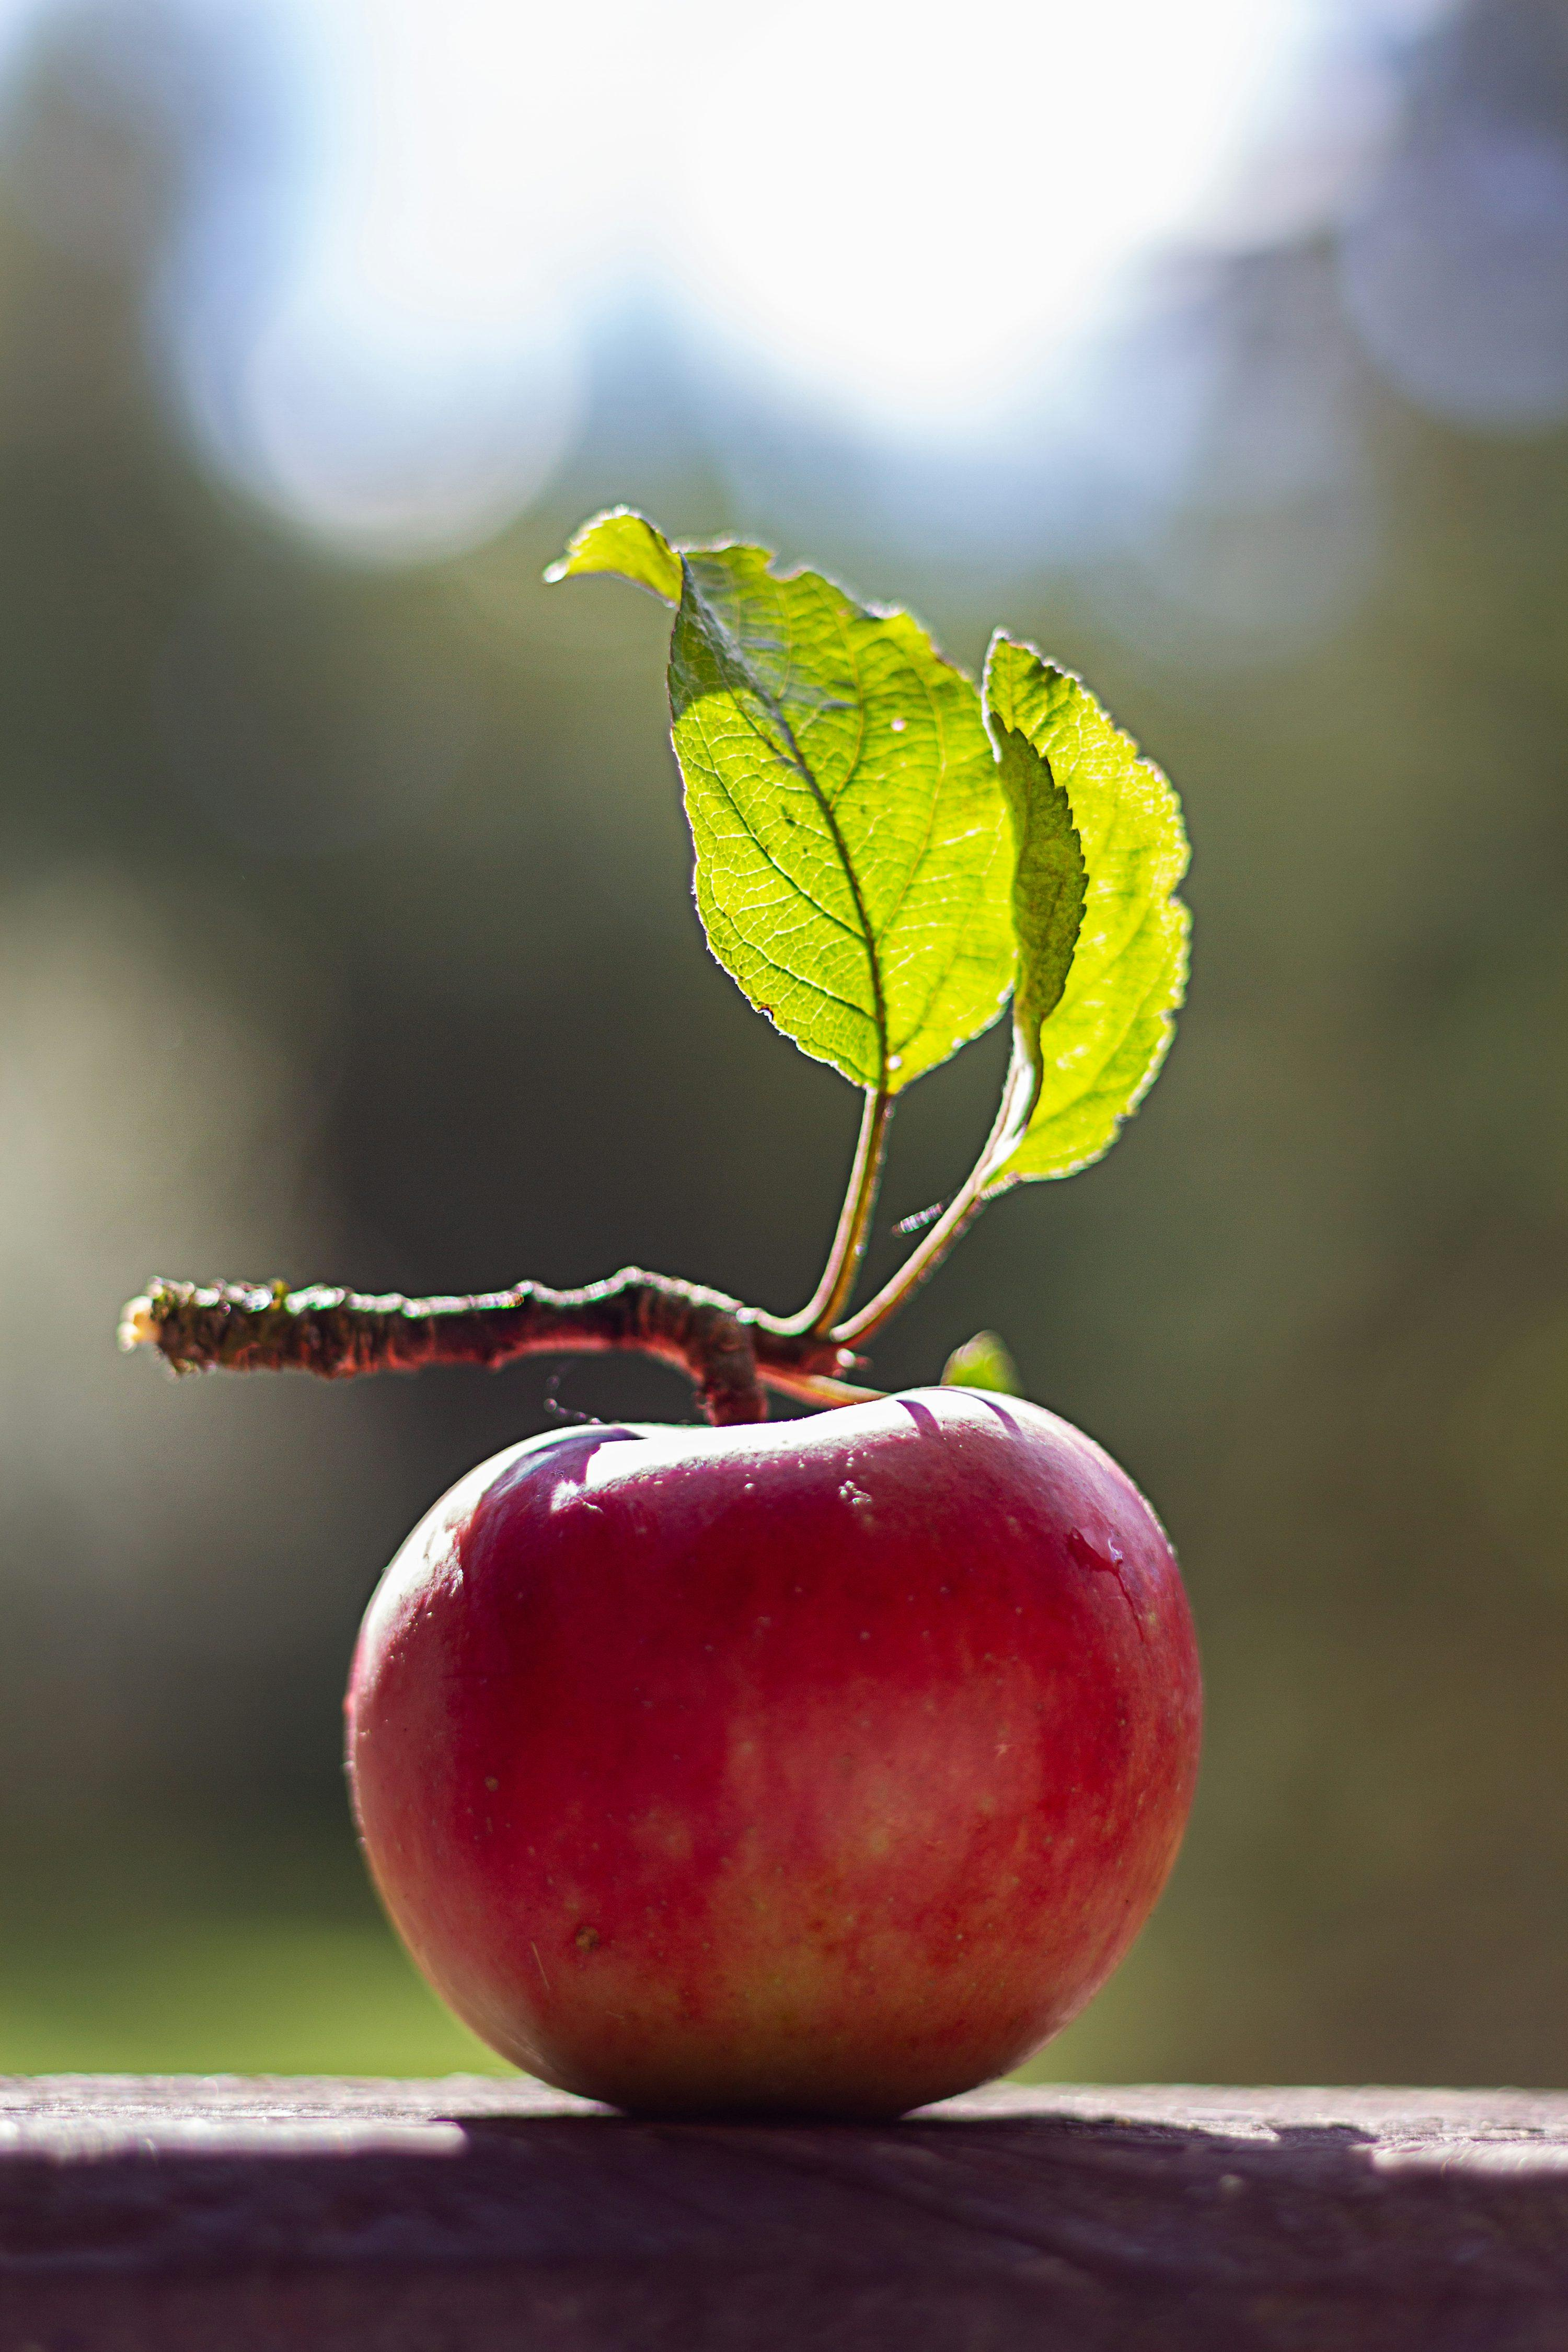non-mango: (84, 455, 1262, 2145)
